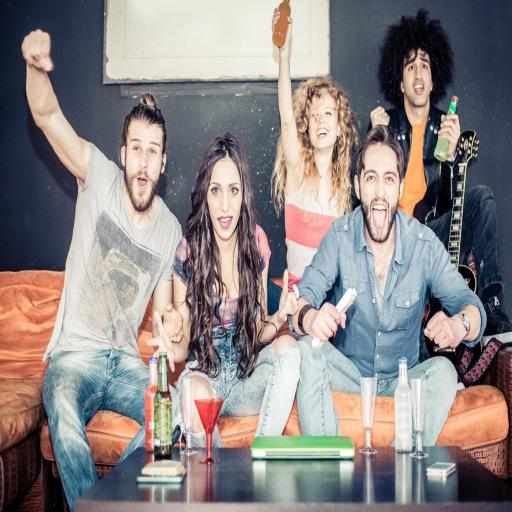person: (22, 30, 181, 510), (291, 125, 485, 445), (151, 134, 300, 435), (272, 17, 358, 290), (371, 10, 460, 247)
